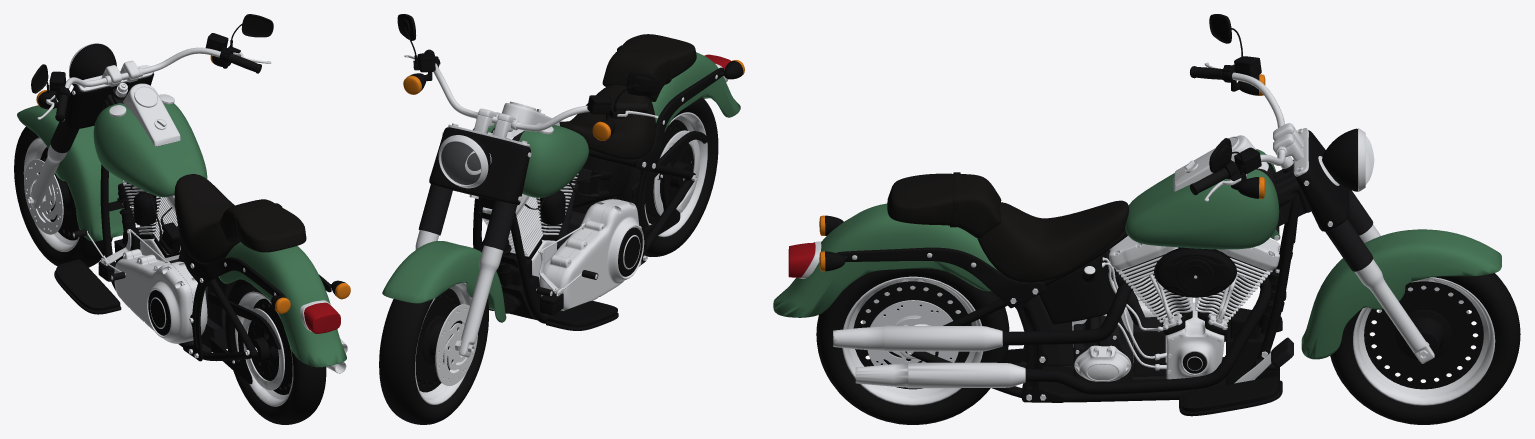
The model's file is fatboyw.glb.
3 views of the same model, side by side, from view 1: azimuth 30°, elevation 25°; view 2: azimuth 150°, elevation 25°; view 3: azimuth 270°, elevation 25° (orthographic). The views are drawn at different scales.
Parts seen in each view (by area): view 1: Cube, Plane.001, Plane, Circle, Cube.018, Cylinder.001, Cube.019, Cylinder, Cube.027, NurbsPath.001, Cylinder.039, Cube.001 (+32 smaller); view 2: Cylinder, Circle, Plane, Cube, Cube.001, Cube.018, Cube.019, Cylinder.002, Cylinder.001, NurbsPath.001, Plane.001, Cylinder.044 (+32 smaller); view 3: Plane, Cube, Plane.001, Cylinder.001, NurbsPath, Cube.018, Cylinder, wheel, NurbsPath.002, Cube.019, NurbsPath.001, Circle.002 (+33 smaller).
Part boxes in pixels (box(x1,y1,x2,y2)): Cube: box(93, 102, 207, 197); Plane.001: box(218, 242, 346, 367); Plane: box(17, 101, 124, 241); Circle: box(114, 251, 192, 343); Cube.018: box(174, 174, 239, 263); Cylinder.001: box(225, 279, 326, 424); Cube.019: box(219, 199, 306, 252); Cylinder: box(14, 126, 112, 267); Cube.027: box(54, 259, 121, 314); NurbsPath.001: box(100, 164, 257, 361); Cylinder.039: box(24, 159, 63, 234); Cube.001: box(63, 72, 153, 128); Cylinder: box(379, 298, 488, 424); Circle: box(554, 201, 644, 310); Plane: box(382, 241, 506, 322); Cube: box(473, 123, 588, 197); Cube.001: box(429, 127, 530, 205); Cube.018: box(559, 84, 655, 159); Cube.019: box(602, 34, 696, 101); Cylinder.002: box(459, 200, 517, 357); Cylinder.001: box(616, 97, 718, 256); NurbsPath.001: box(473, 149, 695, 323); Plane.001: box(652, 52, 740, 132); Cylinder.044: box(438, 134, 490, 188); Plane: box(1301, 229, 1501, 359); Cube: box(1125, 149, 1279, 249); Plane.001: box(773, 203, 997, 317); Cylinder.001: box(816, 268, 1009, 424); NurbsPath: box(855, 277, 1271, 394); Cube.018: box(977, 200, 1128, 282); Cylinder: box(1330, 273, 1520, 424); wheel: box(1364, 281, 1483, 389); NurbsPath.002: box(833, 280, 1132, 351); Cube.019: box(887, 172, 1001, 238); NurbsPath.001: box(905, 195, 1299, 402); Circle.002: box(1353, 277, 1495, 405).
Bounding box in the file's own units: 4.21 × 4.73 × 9.3.
